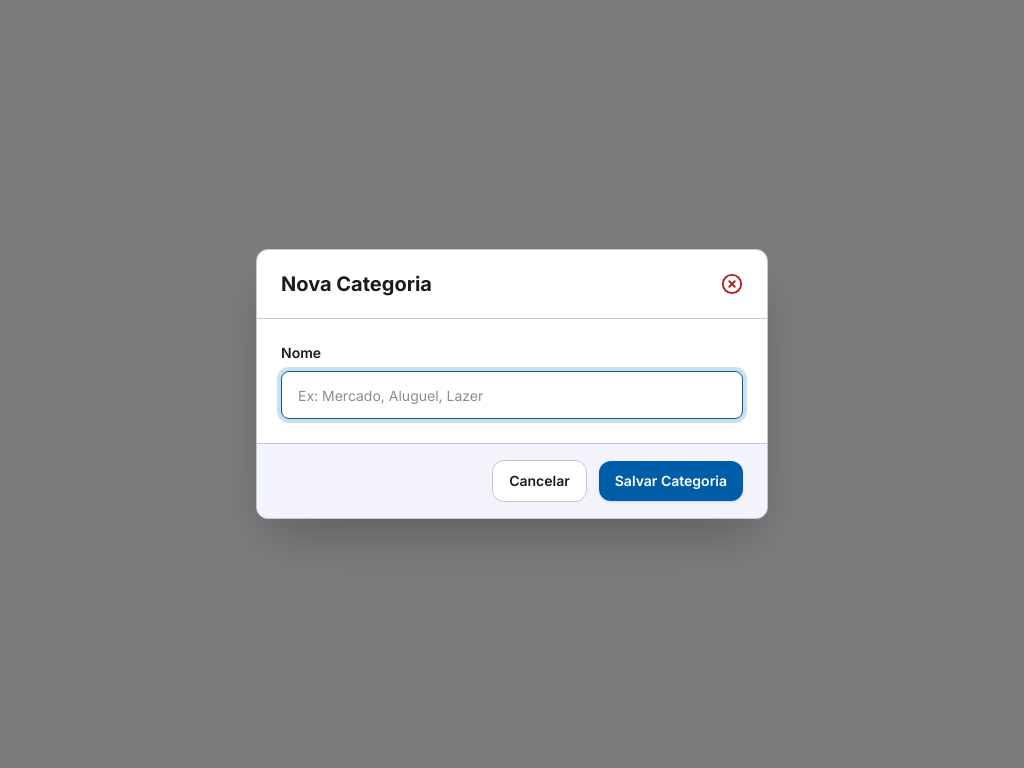
Scenario: AddCategoryModal › submits form with valid name, shows success toast and closes modal
Type "Saúde" into the field labelled "Nome" at (512, 395), box [281, 371, 743, 419]
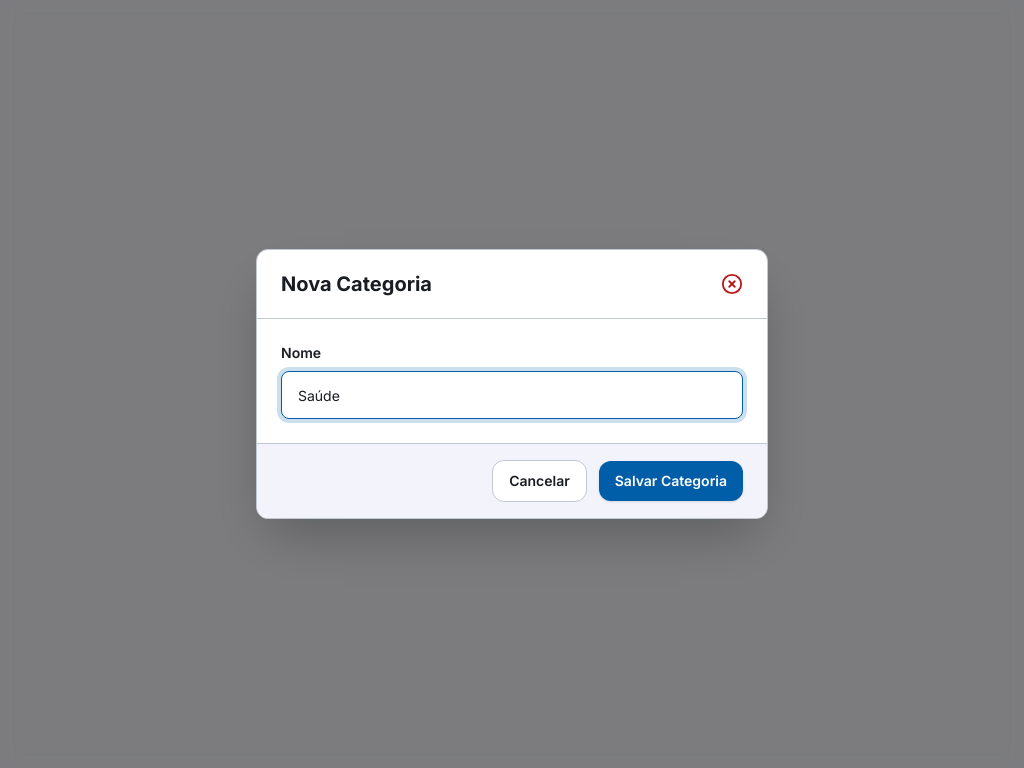
Click the button "Salvar Categoria" at (671, 481), box [599, 461, 743, 501]
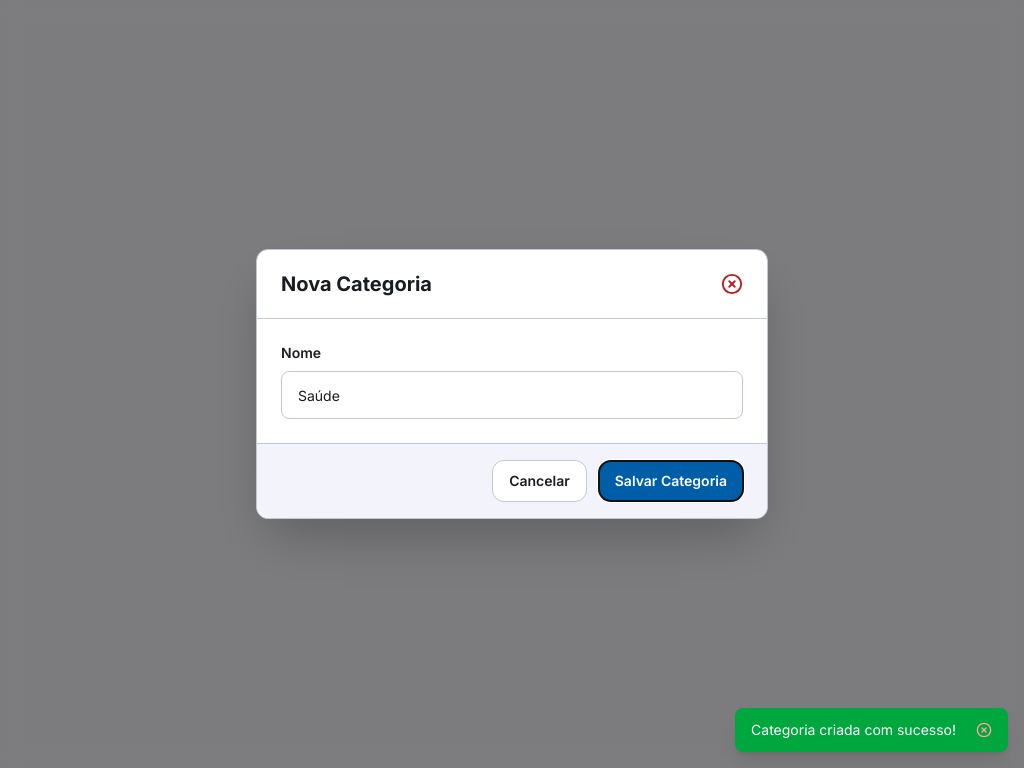
Expected: the message reads "Categoria criada com sucesso!", [751, 721, 956, 738]
